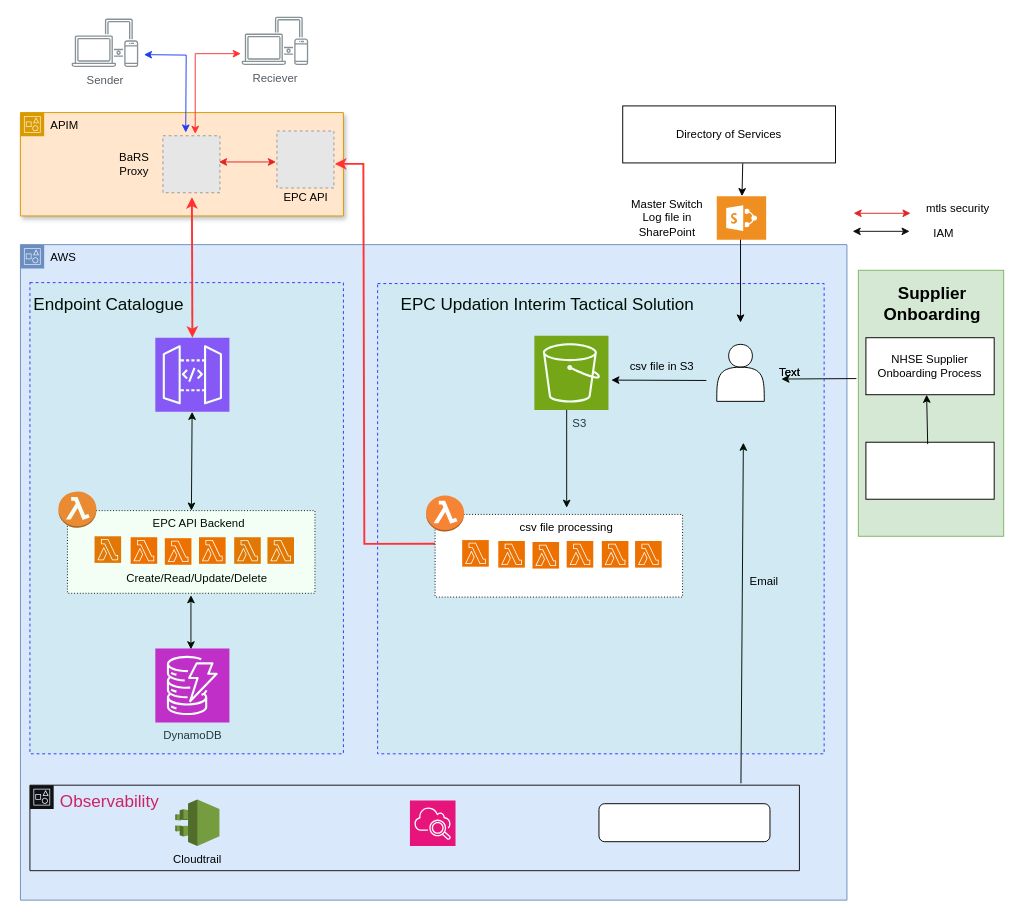
Image size: 1025x917. Some labels were removed from this diagram. Grey dashed boxes stand in for pictures. Here are the shapes that lost their labels. From the top down, the centre of each, then its label:
point 740,372: BARS R&M
point 929,470: Supplier
point 186,518: EPC Gateway
point 432,822: Cloudwatch
point 684,822: TBC: Appdynamics/Dynatrace/ODIN
